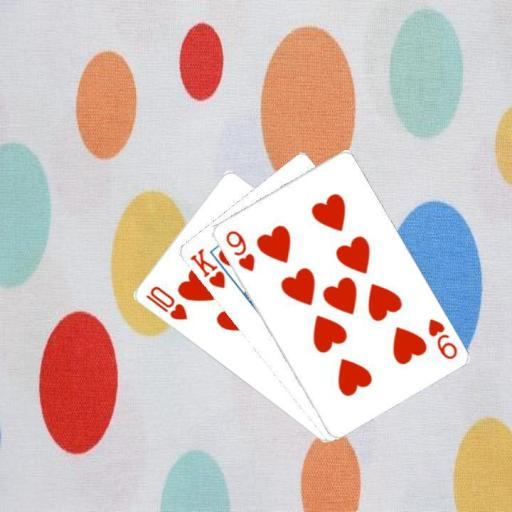10H: (142, 282, 189, 322)
9H: (424, 315, 459, 361), (222, 227, 256, 273)
KH: (186, 245, 227, 290)
